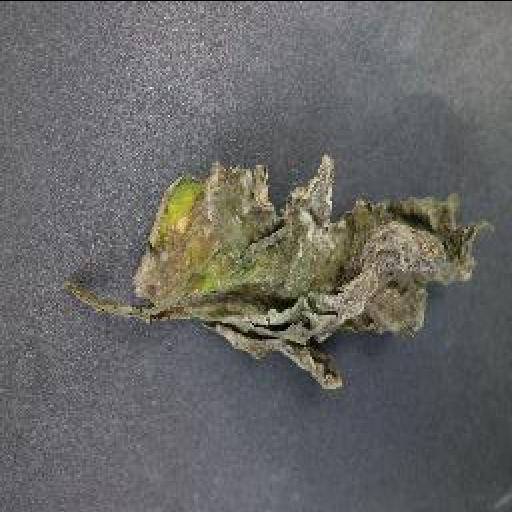disease_tomato: (128, 158, 490, 388)
